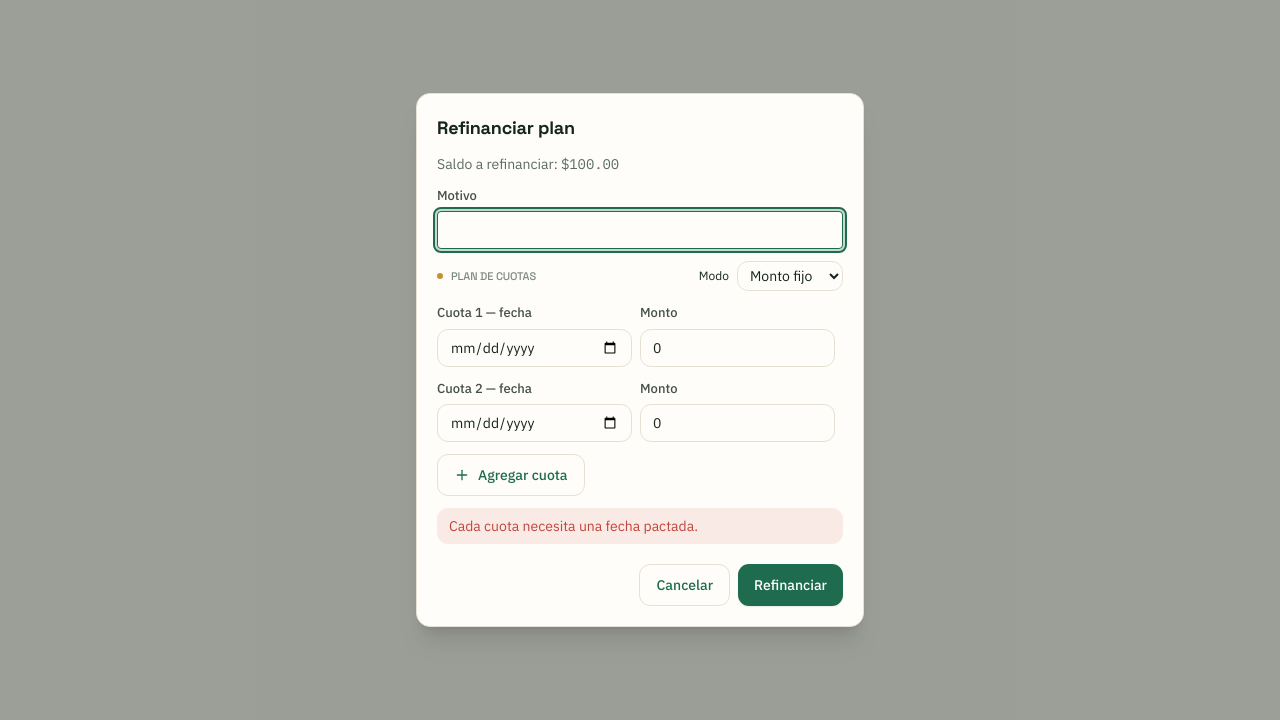
it: RefinanciarModal › no confirma sin motivo aunque las cuotas cuadren
Click the button "Refinanciar" at (790,585), box left=738, top=564, right=843, bottom=606
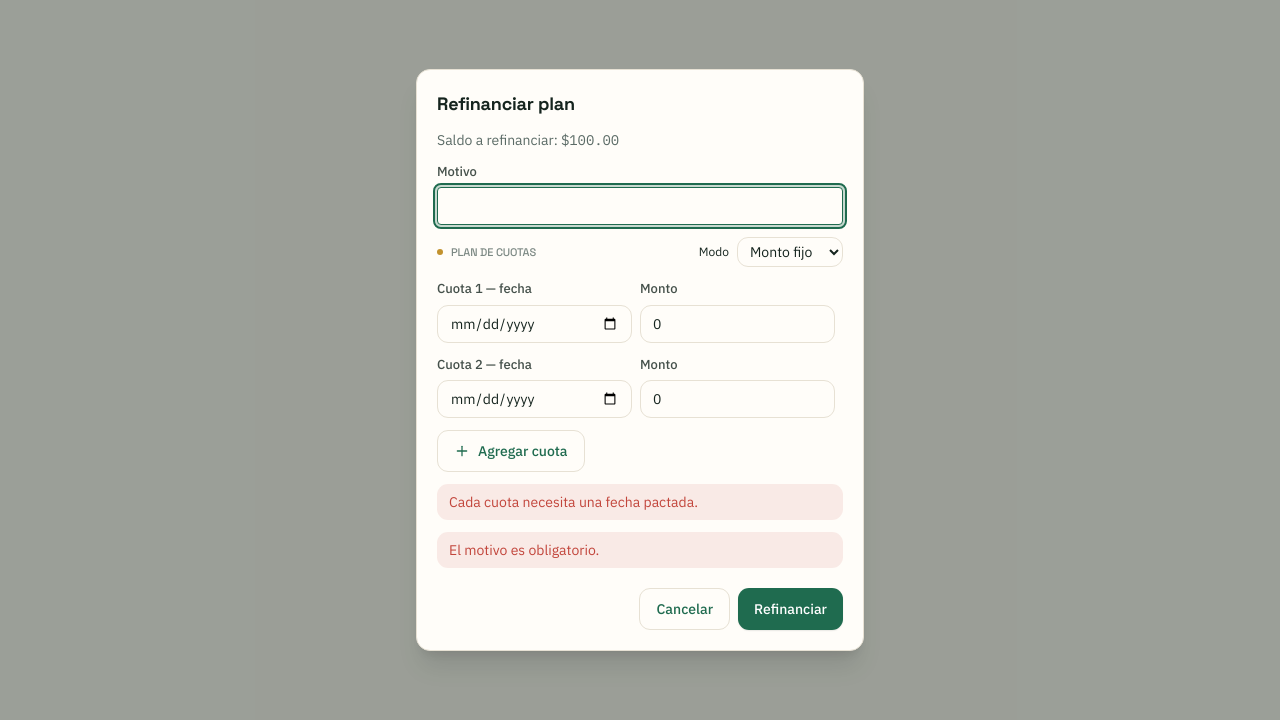
Check: the text "El motivo es obligatorio." is shown, box left=437, top=532, right=843, bottom=568
